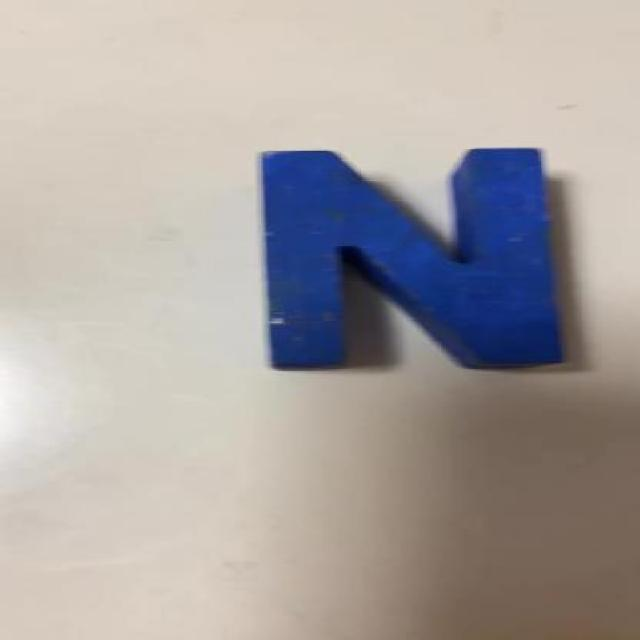N: (260, 151, 552, 364)
